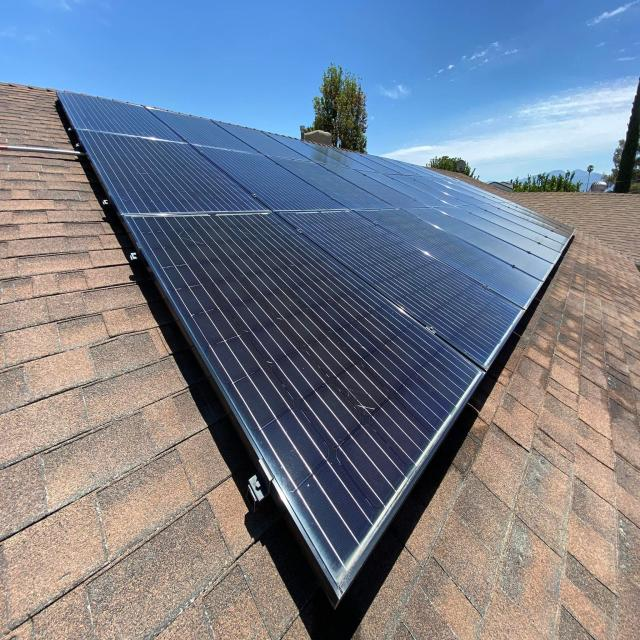clean-solar-panel: (58, 92, 572, 605)
